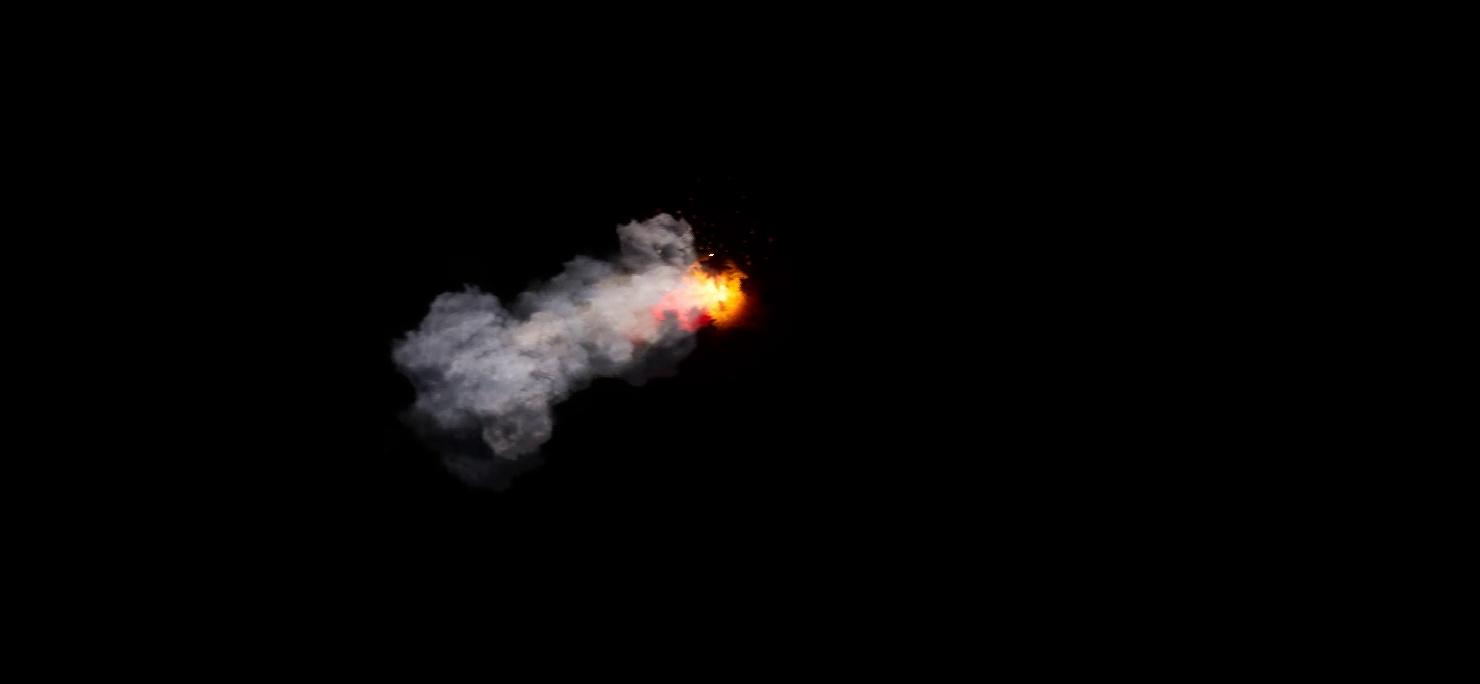fire: (680, 259, 747, 326)
smoke: (390, 217, 703, 465)
